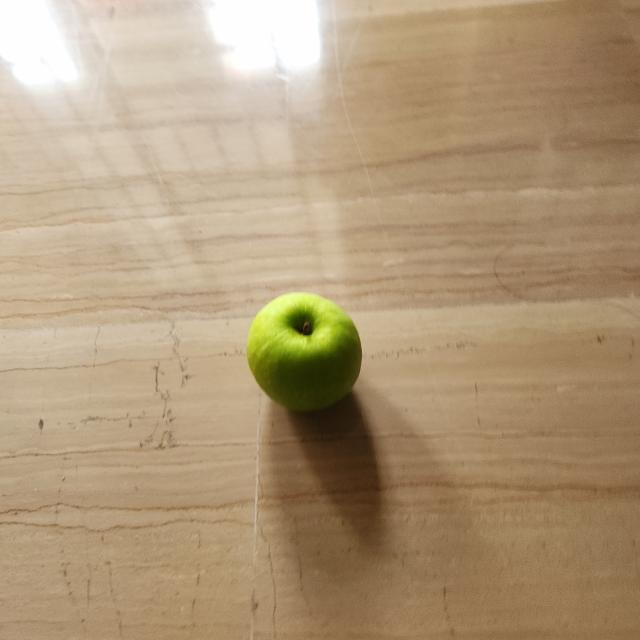apple: (242, 288, 372, 426)
